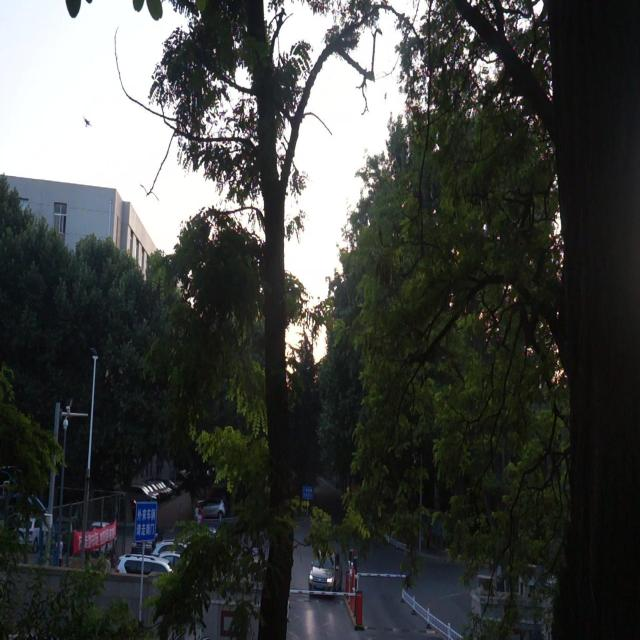drone: (80, 113, 94, 129)
